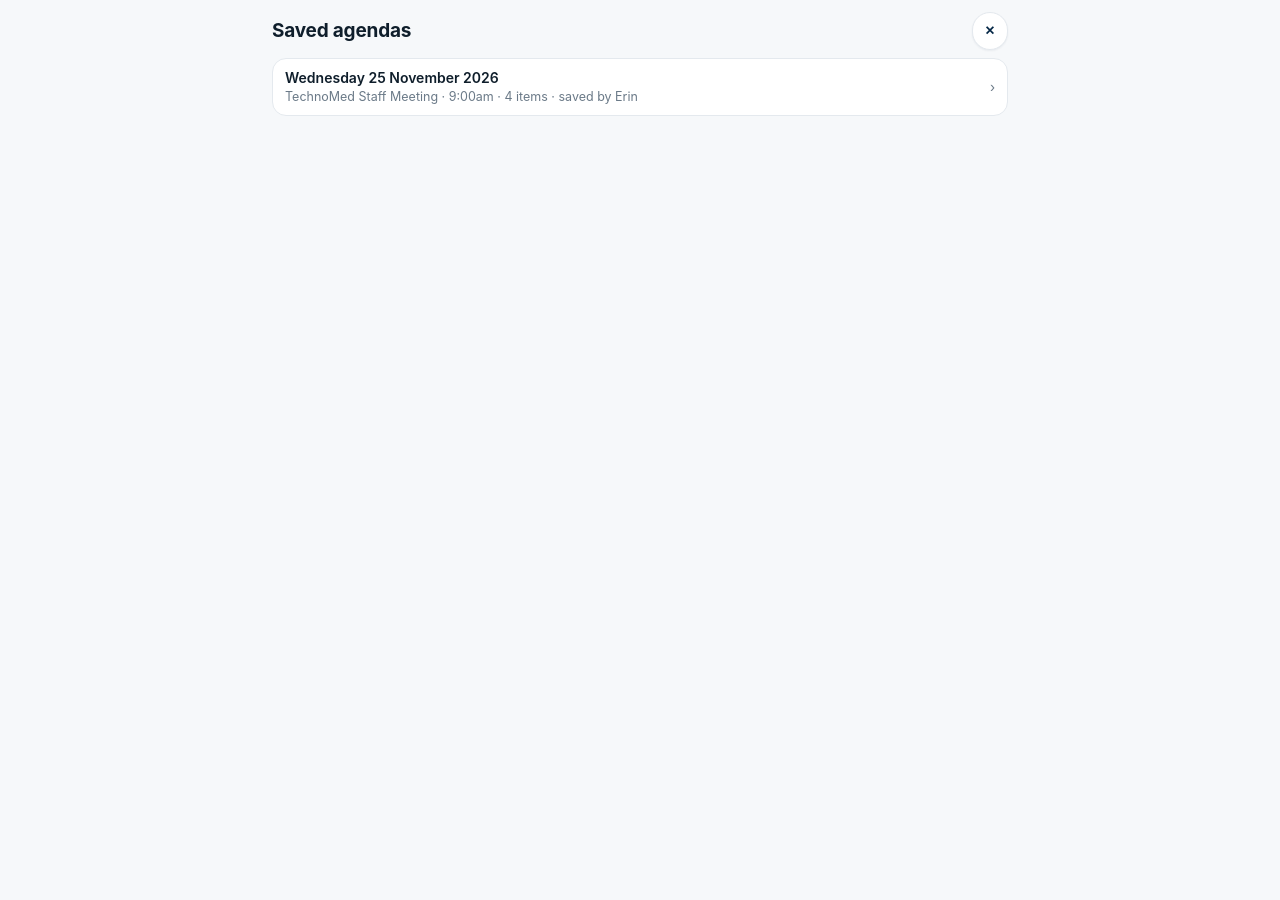
the screens › lists saved agendas and opens one as it was saved
What coordinates should you click on to do the following:
click the text "Wednesday 25 November 2026"
I would click on:
 (392, 78)
Its box is [285,69,499,86].
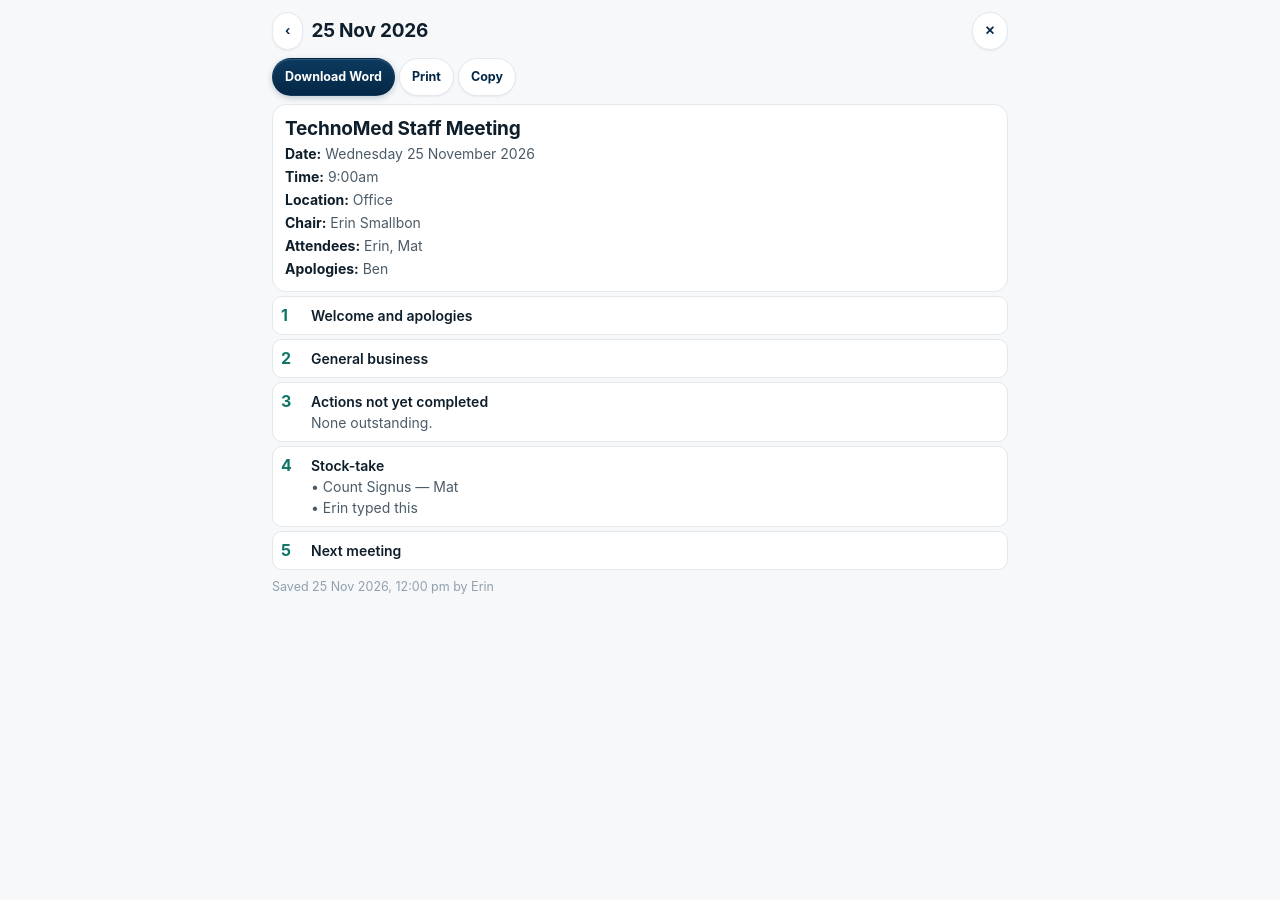
Check: the text "• Count Signus — Mat" is shown, box [311,478,458,495]
Check: the button "Download Word" is shown, box [272,58,395,96]
